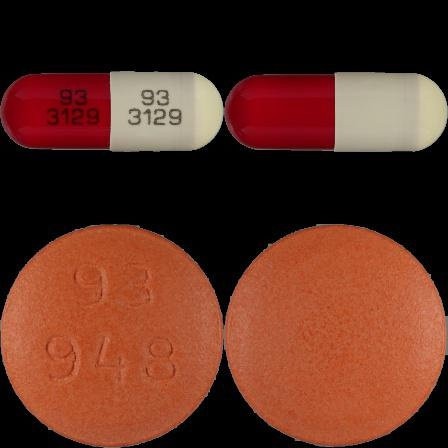68151-0528: (0, 0, 224, 224)
